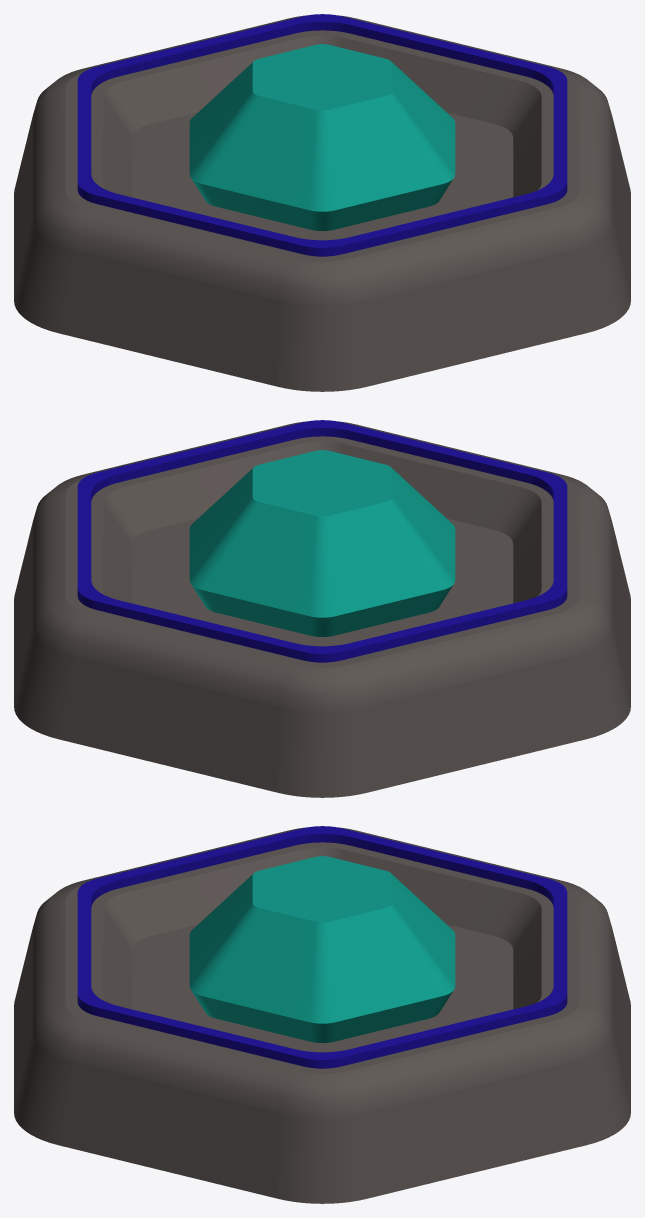
Rendered from Button.fbx.
3 views of the same model, one above another, from view 1: azimuth 30°, elevation 25°; view 2: azimuth 150°, elevation 25°; view 3: azimuth 270°, elevation 25° (orthographic).
Visible parts, largest first — view 1: base, Gem, Ring; view 2: base, Gem, Ring; view 3: base, Gem, Ring.
Part boxes in pixels (box(x1,y1,x2,y2)): base: box(14, 15, 630, 391); Gem: box(189, 44, 455, 230); Ring: box(77, 14, 567, 256); base: box(14, 421, 630, 797); Gem: box(189, 450, 455, 636); Ring: box(77, 420, 567, 662); base: box(14, 827, 630, 1203); Gem: box(189, 856, 455, 1042); Ring: box(77, 826, 567, 1068).
Size of the model in its own units: 409 by 112 by 368.
